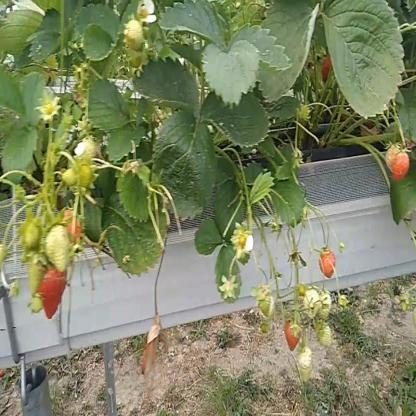ripe: (37, 260, 65, 322), (58, 207, 82, 248), (316, 48, 335, 88), (387, 145, 408, 180), (284, 318, 301, 350), (318, 248, 336, 278)
unripe: (43, 224, 72, 272), (123, 18, 145, 48), (258, 292, 276, 323), (318, 289, 332, 318), (316, 326, 334, 348), (298, 347, 314, 371), (304, 288, 317, 314), (61, 171, 78, 188)
